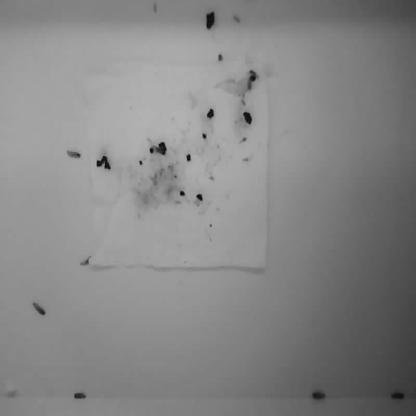PtecticusTenebrifer: (33, 300, 46, 318), (65, 148, 82, 160), (311, 389, 326, 401), (390, 389, 404, 401), (74, 389, 87, 401)
